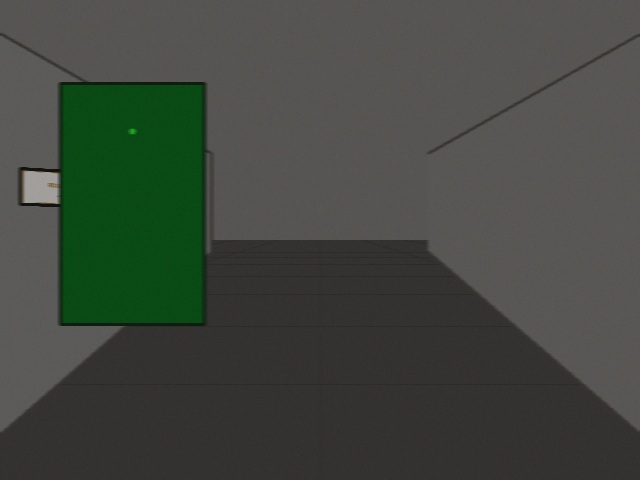charging_station: (60, 83, 204, 324)
directional_sign: (20, 168, 97, 206)
